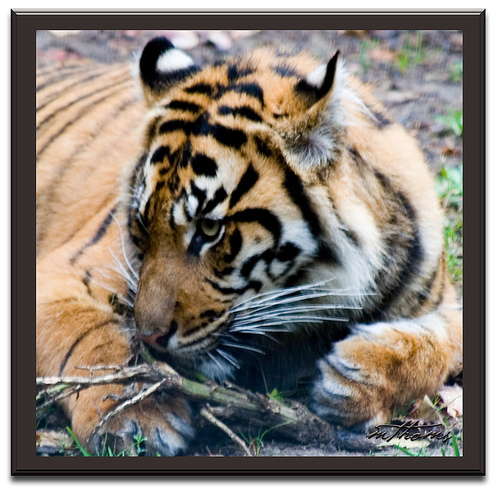Tigre: (55, 36, 462, 418)
